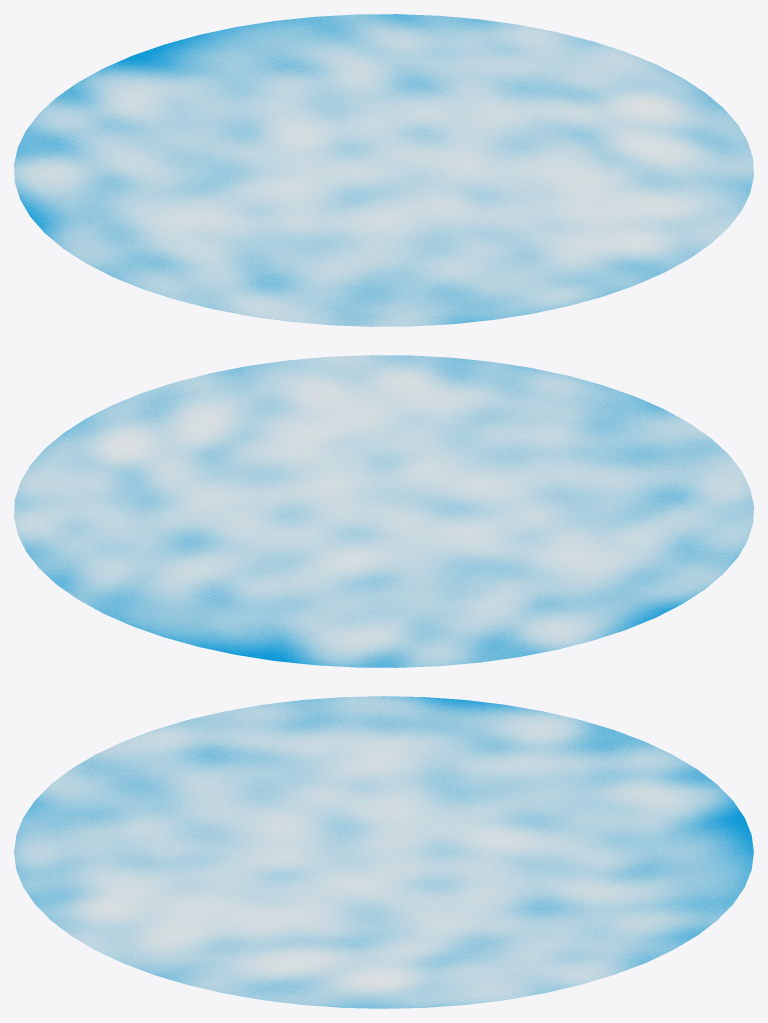
The model's file is SkyFloor.fbx.
The picture shows the model from 3 angles, top to bottom: view 1: azimuth 30°, elevation 25°; view 2: azimuth 150°, elevation 25°; view 3: azimuth 270°, elevation 25°; orthographic projection.
Visible parts, largest first — view 1: pDisc1; view 2: pDisc1; view 3: pDisc1.
Boxes of the visible parts, x1,y1,x2,y2 form: pDisc1: [14, 14, 753, 326]; pDisc1: [14, 355, 753, 667]; pDisc1: [14, 696, 753, 1008].
Size of the model in its own units: 2000 by 0 by 2000.
1 material, 1 textured.
